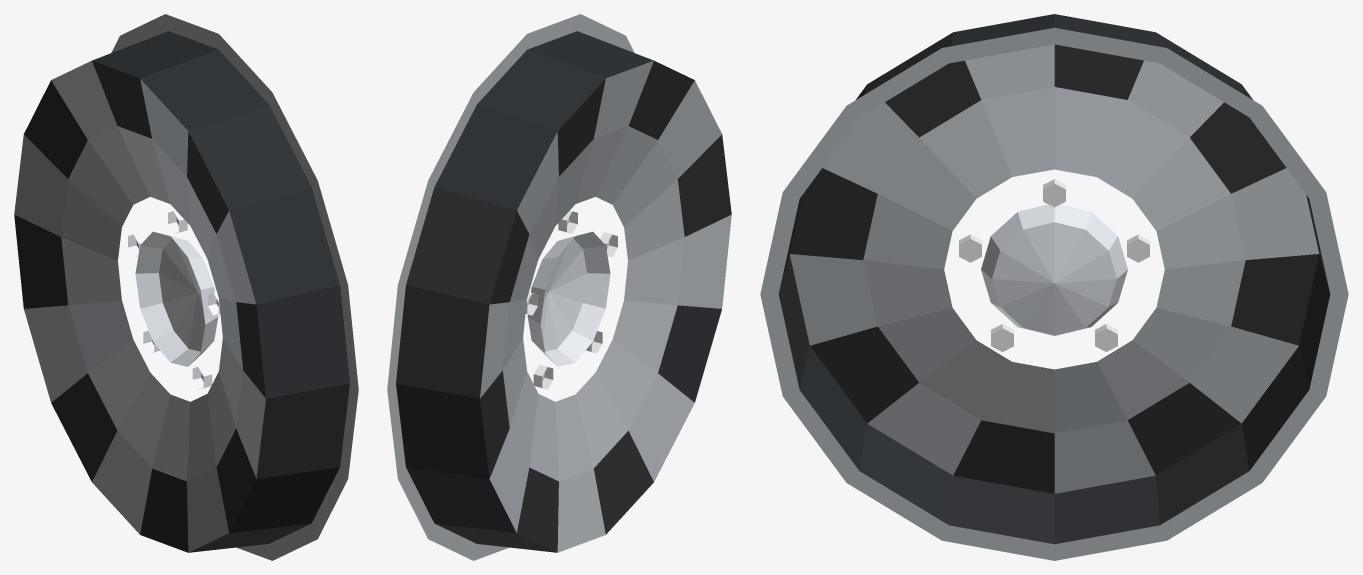
File: rim_04_stamped_steelie.obj
3 renders of one model, left to right at view 1: azimuth 30°, elevation 25°; view 2: azimuth 150°, elevation 25°; view 3: azimuth 270°, elevation 25°, orthographic. The views are drawn at different scales.
Parts seen in each view (by area): view 1: rim_04_stamped_steelie; view 2: rim_04_stamped_steelie; view 3: rim_04_stamped_steelie.
Boxes of the visible parts, left/top/right/bottom form: rim_04_stamped_steelie: left=14, top=14, right=358, bottom=560; rim_04_stamped_steelie: left=387, top=14, right=731, bottom=560; rim_04_stamped_steelie: left=760, top=14, right=1348, bottom=560.
Bounding box in the file's own units: 0.0812 × 0.5 × 0.5.
